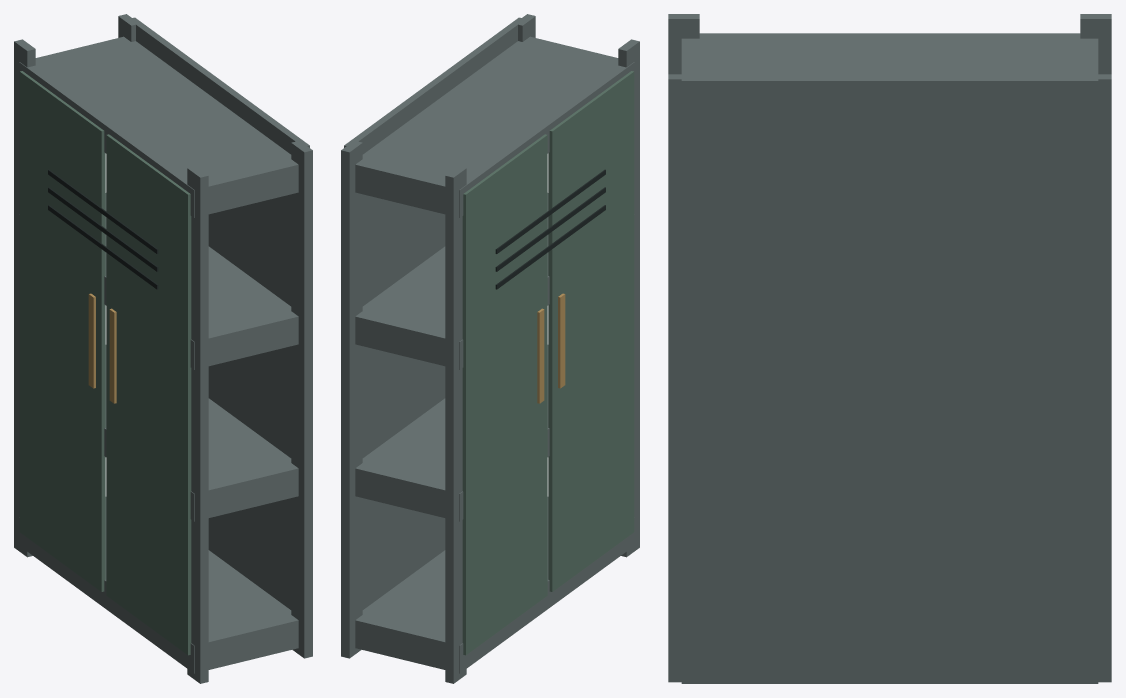
Rendered from LP_Exit_ElectricalPanel.fbx.
The picture shows the model from 3 angles, left to right: view 1: azimuth 30°, elevation 25°; view 2: azimuth 150°, elevation 25°; view 3: azimuth 270°, elevation 25°; orthographic projection. The views are drawn at different scales.
Visible parts, largest first — view 1: M_Museum_BrushedMetal, SageUpholstery, Charcoal, AgedBrass; view 2: M_Museum_BrushedMetal, SageUpholstery, Charcoal, AgedBrass; view 3: M_Museum_BrushedMetal.
Boxes of the visible parts, x1,y1,x2,y2 form: M_Museum_BrushedMetal: (14, 14, 312, 683); SageUpholstery: (19, 71, 191, 655); Charcoal: (48, 169, 158, 289); AgedBrass: (88, 293, 116, 403); M_Museum_BrushedMetal: (341, 14, 639, 683); SageUpholstery: (462, 71, 634, 655); Charcoal: (495, 169, 605, 289); AgedBrass: (537, 293, 565, 403); M_Museum_BrushedMetal: (668, 14, 1111, 683).
Bounding box in the file's own units: 30 × 120 × 80.
